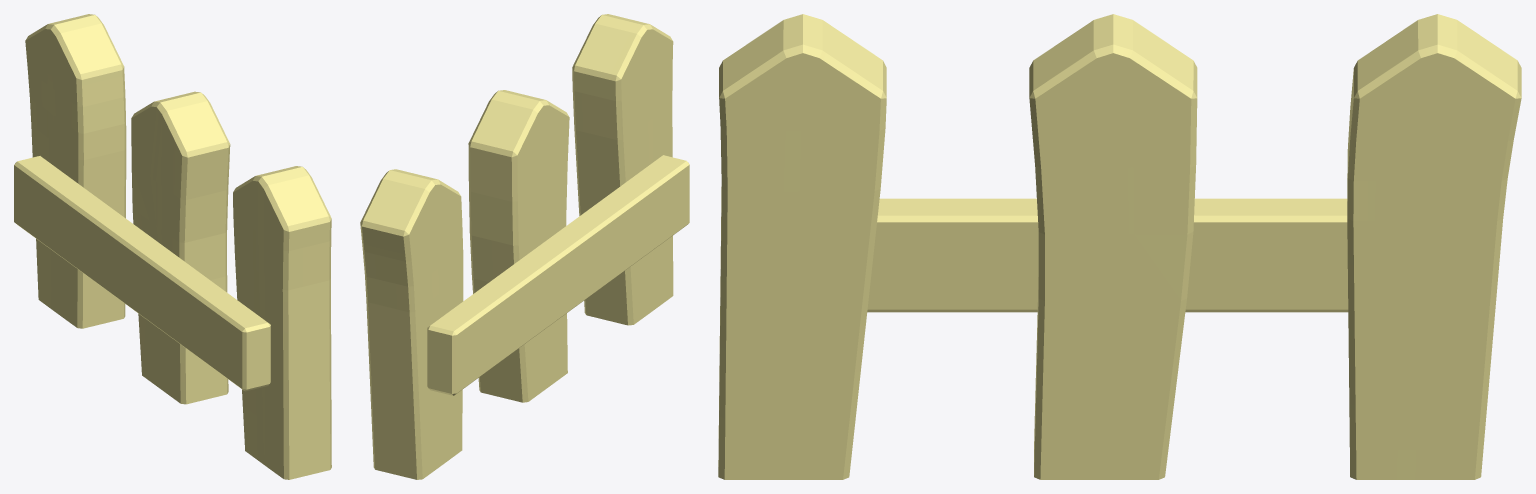
Rendered from fence1.fbx.
3 renders of one model, left to right at view 1: azimuth 30°, elevation 25°; view 2: azimuth 150°, elevation 25°; view 3: azimuth 270°, elevation 25°, orthographic. The views are drawn at different scales.
Visible parts, largest first — view 1: pasted__polySurface209; view 2: pasted__polySurface209; view 3: pasted__polySurface209.
Part boxes in pixels (x1=…): pasted__polySurface209: x1=14, y1=14, x2=331, y2=479; pasted__polySurface209: x1=360, y1=14, x2=689, y2=479; pasted__polySurface209: x1=718, y1=14, x2=1521, y2=479.
Size of the model in its own units: 2.21 by 7.78 by 13.08.
Materials: 1 (1 with a texture image).
